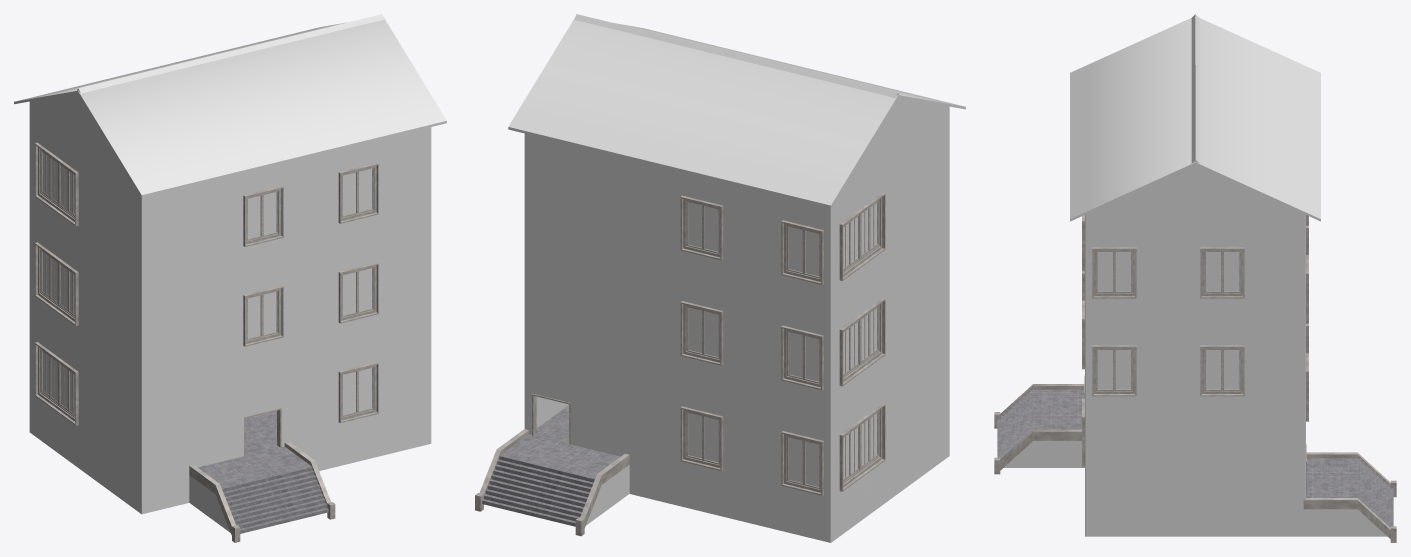
The model's file is Structure_G.fbx.
3 views of the same model, side by side, from view 1: azimuth 30°, elevation 25°; view 2: azimuth 150°, elevation 25°; view 3: azimuth 270°, elevation 25° (orthographic). The views are drawn at different scales.
Visible parts, largest first — view 1: Structure_G; view 2: Structure_G; view 3: Structure_G.
Part boxes in pixels (<box>): Structure_G: <box>14,14,446,542</box>; Structure_G: <box>475,14,965,542</box>; Structure_G: <box>994,14,1396,542</box>.
Size of the model in its own units: 19.23 by 22.33 by 23.67.
